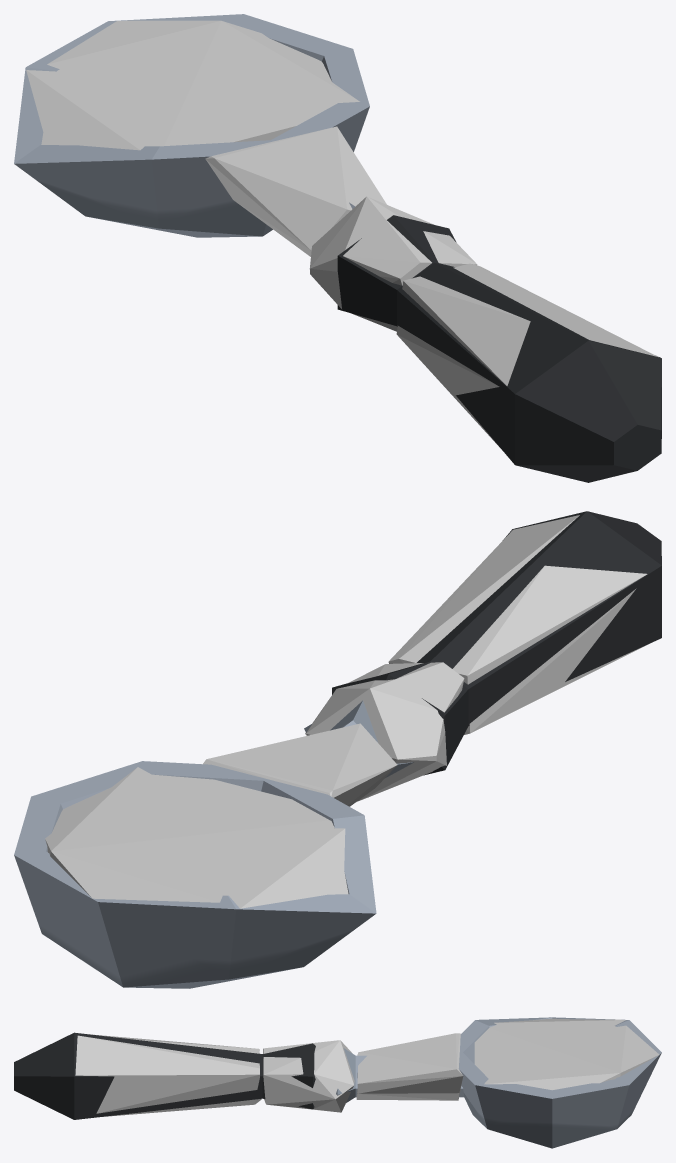
Rendered from SM_Item_Wax_Seal_Spoon_01.fbx.
3 renders of one model, top to bottom at view 1: azimuth 30°, elevation 25°; view 2: azimuth 150°, elevation 25°; view 3: azimuth 270°, elevation 25°, orthographic. The views are drawn at different scales.
Parts seen in each view (by area): view 1: SM_Item_Wax_Seal_Spoon_01_ConvexHulls, SM_Item_Wax_Seal_Spoon_01; view 2: SM_Item_Wax_Seal_Spoon_01_ConvexHulls, SM_Item_Wax_Seal_Spoon_01; view 3: SM_Item_Wax_Seal_Spoon_01_ConvexHulls, SM_Item_Wax_Seal_Spoon_01.
Part boxes in pixels (bbox=[...]): SM_Item_Wax_Seal_Spoon_01_ConvexHulls: bbox=[26, 20, 658, 450]; SM_Item_Wax_Seal_Spoon_01: bbox=[14, 14, 661, 482]; SM_Item_Wax_Seal_Spoon_01_ConvexHulls: bbox=[45, 515, 650, 908]; SM_Item_Wax_Seal_Spoon_01: bbox=[14, 511, 661, 988]; SM_Item_Wax_Seal_Spoon_01_ConvexHulls: bbox=[75, 1018, 659, 1116]; SM_Item_Wax_Seal_Spoon_01: bbox=[14, 1017, 661, 1148].
Bounding box in the file's own units: 9.2 × 24.89 × 4.75.
2 materials, 1 textured.
